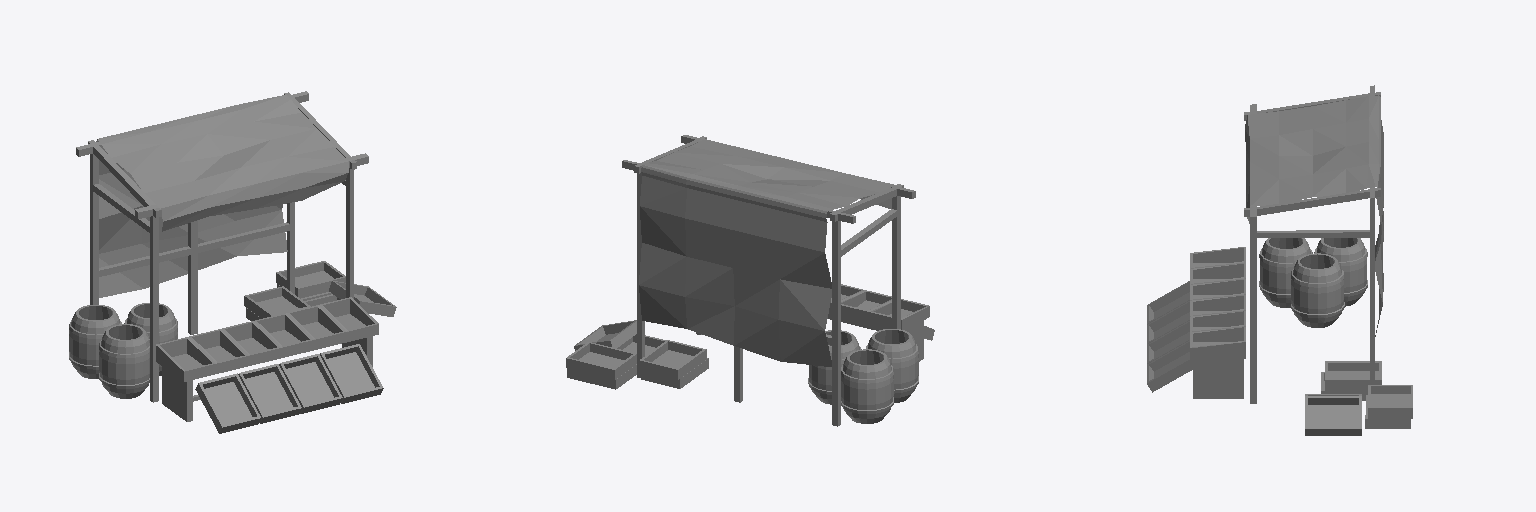
Rendered from TradeTent1.obj.
3 renders of one model, left to right at view 1: azimuth 30°, elevation 25°; view 2: azimuth 150°, elevation 25°; view 3: azimuth 270°, elevation 25°, orthographic.
Visible parts, largest first — view 1: Tent; view 2: Tent; view 3: Tent.
Part boxes in pixels (x1,y1,x2,y2): Tent: (69,91,396,433); Tent: (566,135,934,426); Tent: (1147,85,1412,435).
Bounding box in the file's own units: 124 × 82.59 × 93.12.